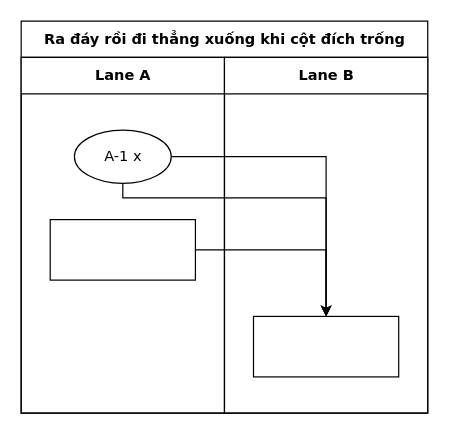
Some shapes in this 449 by 434 pixel diagram are drawn without their labels. Each missing label, with the centre of its shape:
"A-2 x" goes at [122,249].
"B-3 x" goes at [325,346].
